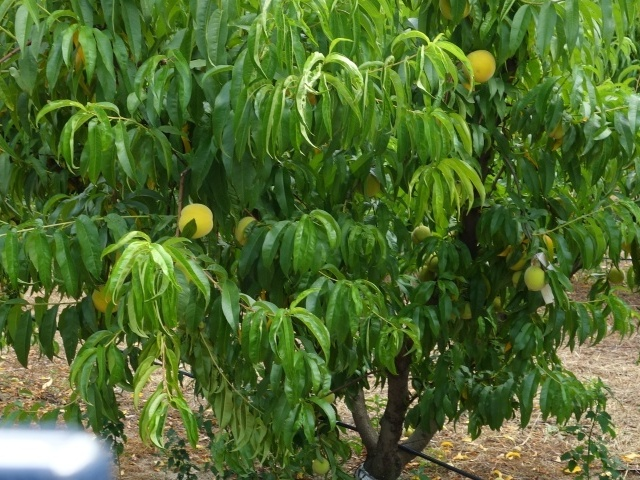peach: (174, 201, 218, 241), (461, 47, 498, 85), (89, 279, 127, 314), (230, 213, 259, 245), (521, 264, 550, 292), (407, 221, 437, 246), (309, 453, 331, 477), (606, 265, 626, 286)
